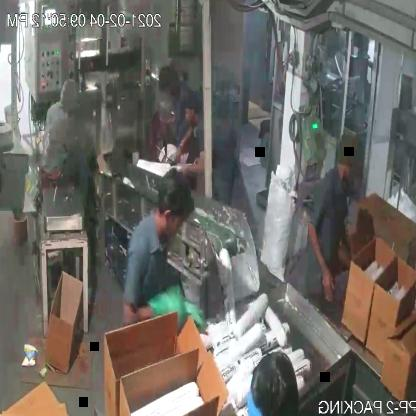glove: (149, 272, 190, 341)
no_glove: (302, 206, 342, 314), (176, 146, 210, 183)
